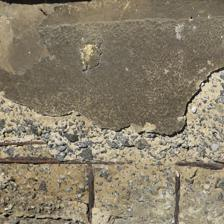Crack: (77, 32, 147, 98), (45, 106, 117, 148)
